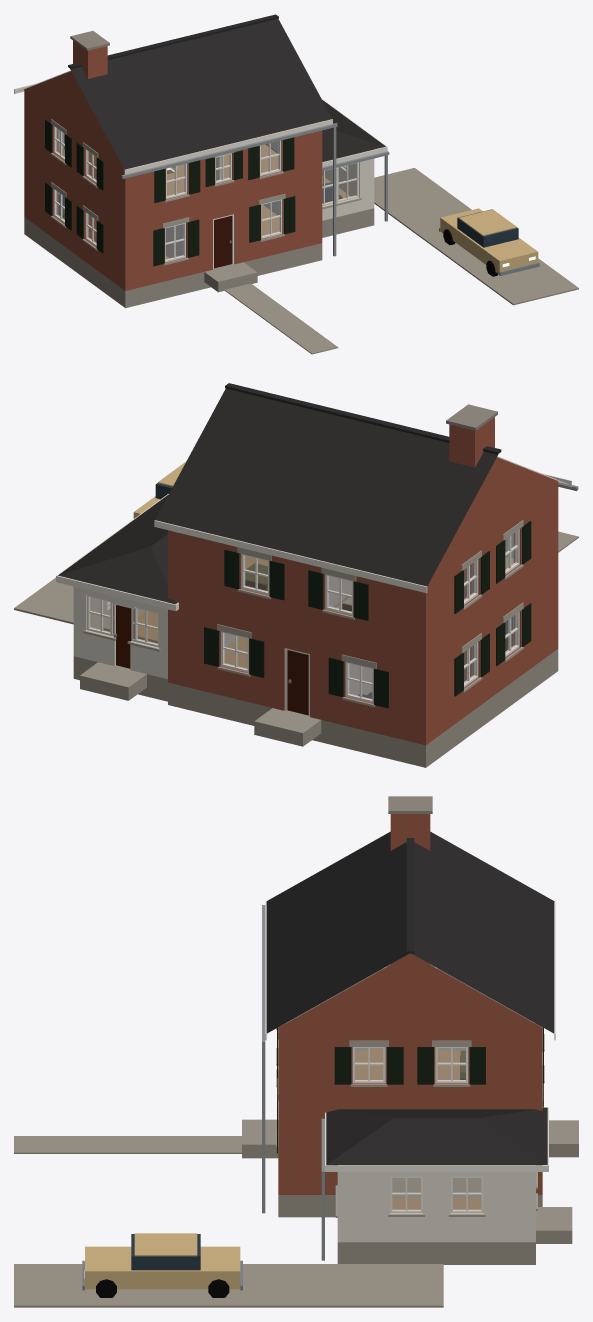
Rendered from colonial_b.glb.
The picture shows the model from 3 angles, top to bottom: view 1: azimuth 30°, elevation 25°; view 2: azimuth 150°, elevation 25°; view 3: azimuth 270°, elevation 25°; orthographic projection. The views are drawn at different scales.
Visible parts, largest first — view 1: LOD0, LEAF0; view 2: LOD0, LEAF1, LEAF2, FURN; view 3: LOD0.
Part boxes in pixels (x1,y1,x2,y2): LOD0: [14, 14, 578, 354]; LEAF0: [214, 215, 232, 268]; LOD0: [14, 383, 578, 767]; LEAF1: [287, 650, 308, 715]; LEAF2: [113, 604, 134, 668]; FURN: [103, 563, 513, 698]; LOD0: [14, 796, 578, 1307].
Size of what is drawn, in the model's own units: 16.51 by 9.95 by 17.1.
